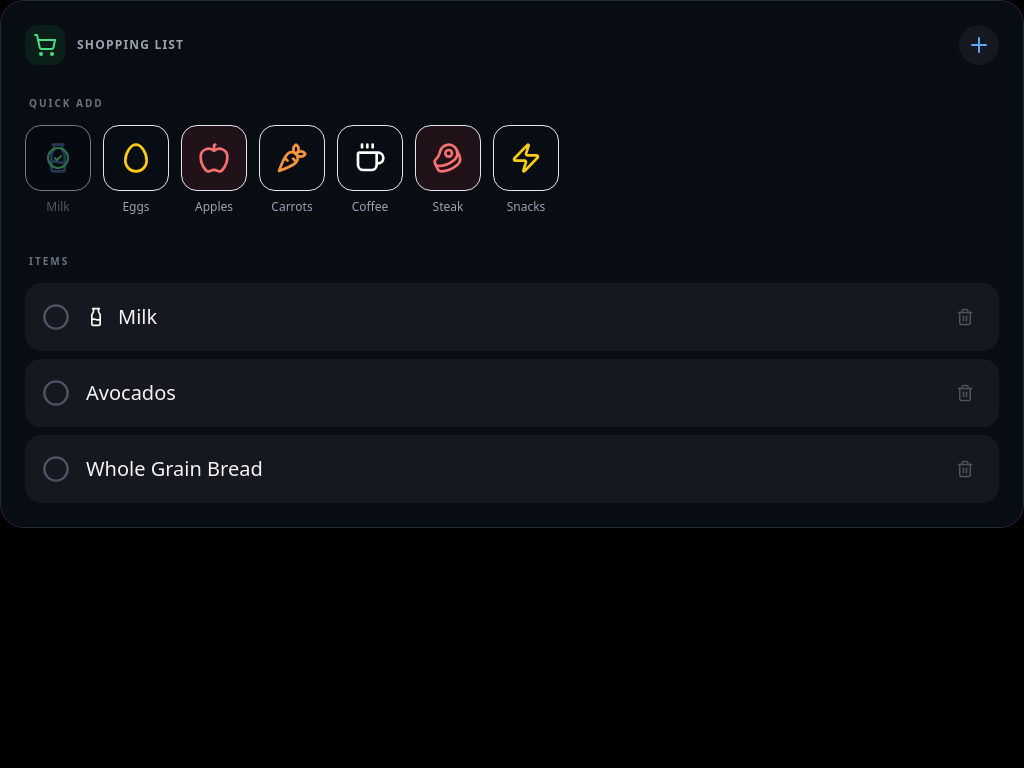
Scenario: ShoppingListWidget › adds an item via quick add
Click \"Eggs\" in the Quick Add menu
Step 1. Click the button with aria-label "Quick add Eggs" → click(136, 170), box [103, 125, 169, 215]
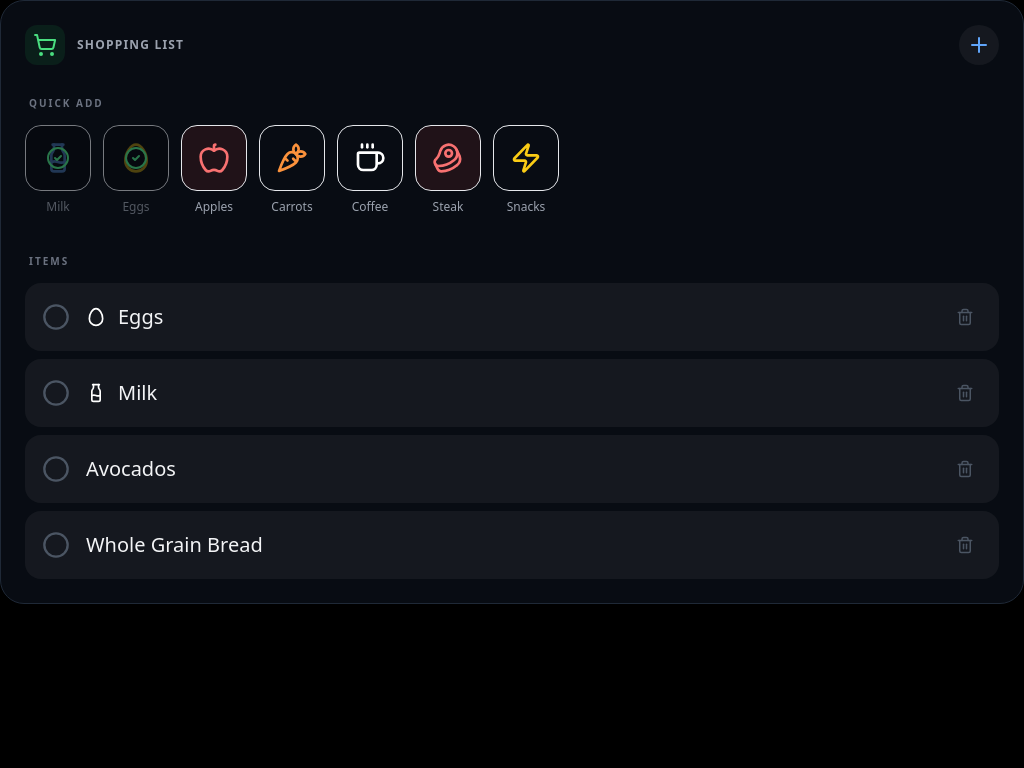
Expected: the button "Eggs" below "Items" is shown, [42, 303, 163, 331]
